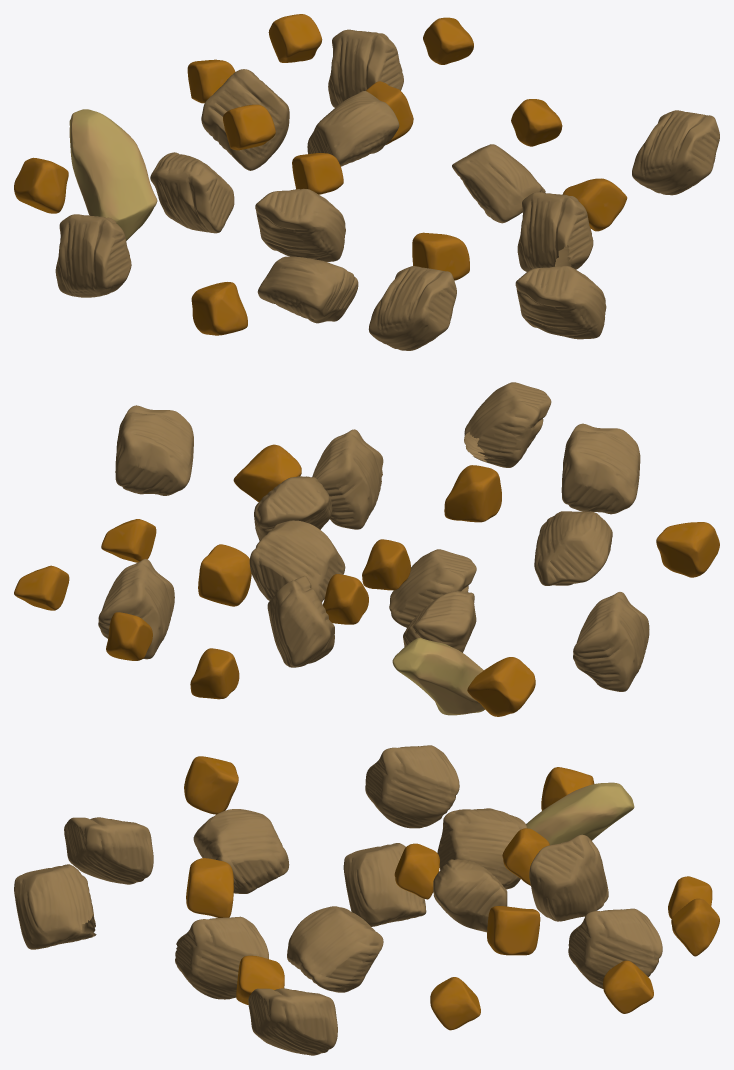
The model's file is sopita.glb.
3 renders of one model, top to bottom at view 1: azimuth 30°, elevation 25°; view 2: azimuth 150°, elevation 25°; view 3: azimuth 270°, elevation 25°, orthographic.
Parts seen in each view (by area): view 1: Carrots; view 2: Carrots; view 3: Carrots.
Part boxes in pixels (x1,y1,x2,y2): Carrots: [14, 14, 719, 350]; Carrots: [14, 382, 719, 716]; Carrots: [14, 745, 719, 1055].
Bounding box in the file's own units: 18.63 × 3.52 × 19.76.
